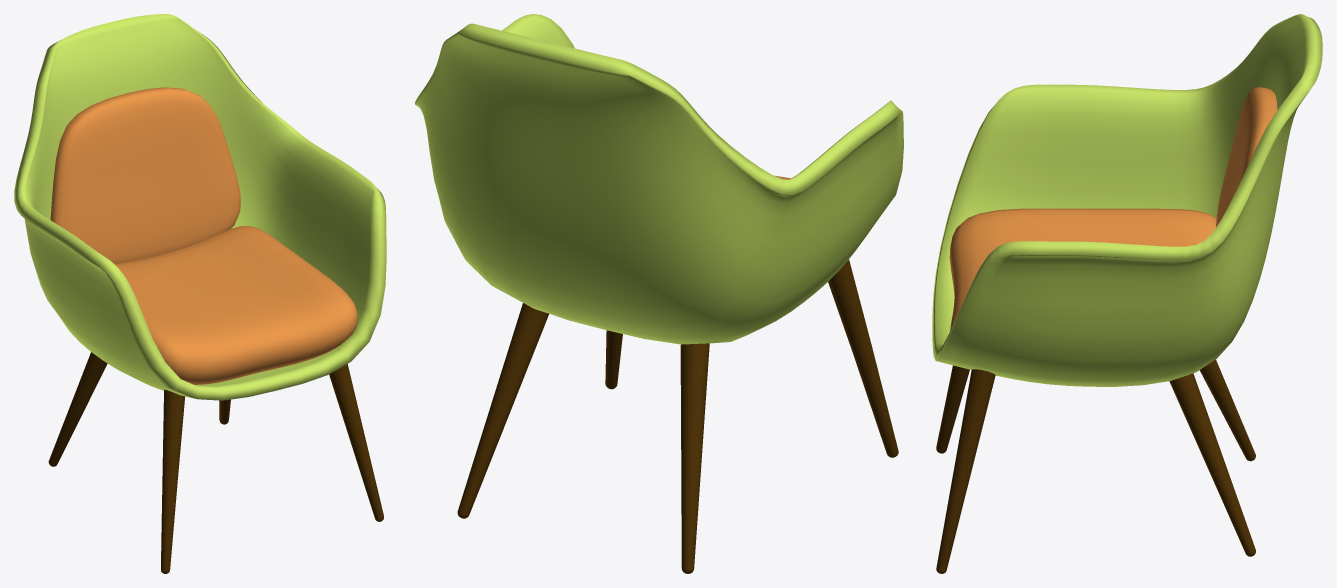
Rendered from modern_chair.glb.
The picture shows the model from 3 angles, left to right: view 1: azimuth 30°, elevation 25°; view 2: azimuth 150°, elevation 25°; view 3: azimuth 270°, elevation 25°; orthographic projection. The views are drawn at different scales.
Parts seen in each view (by area): view 1: Plane_2, Cube.001_8, Cube_7, Vert.003_6, Vert_3, Vert.002_5; view 2: Plane_2, Vert.002_5, Vert.001_4, Vert.003_6, Vert_3; view 3: Plane_2, Cube_7, Vert_3, Vert.001_4, Cube.001_8, Vert.002_5, Vert.003_6.
Boxes of the visible parts, left/top/right/bottom form: Plane_2: left=14, top=14, right=386, bottom=400; Cube.001_8: left=50, top=87, right=240, bottom=264; Cube_7: left=115, top=226, right=358, bottom=384; Vert.003_6: left=161, top=389, right=185, bottom=573; Vert_3: left=329, top=364, right=383, bottom=521; Vert.002_5: left=48, top=352, right=107, bottom=466; Plane_2: left=415, top=14, right=903, bottom=344; Vert.002_5: left=680, top=343, right=709, bottom=573; Vert.001_4: left=457, top=303, right=548, bottom=518; Vert.003_6: left=828, top=259, right=898, bottom=457; Vert_3: left=605, top=330, right=622, bottom=389; Plane_2: left=932, top=14, right=1322, bottom=386; Cube_7: left=949, top=208, right=1216, bottom=331; Vert_3: left=936, top=369, right=995, bottom=573; Vert.001_4: left=1169, top=373, right=1255, bottom=556; Cube.001_8: left=1216, top=87, right=1277, bottom=227; Vert.002_5: left=1199, top=359, right=1255, bottom=461; Vert.003_6: left=936, top=365, right=969, bottom=453.
Bounding box in the file's own units: 3.5 × 4.69 × 3.52.
